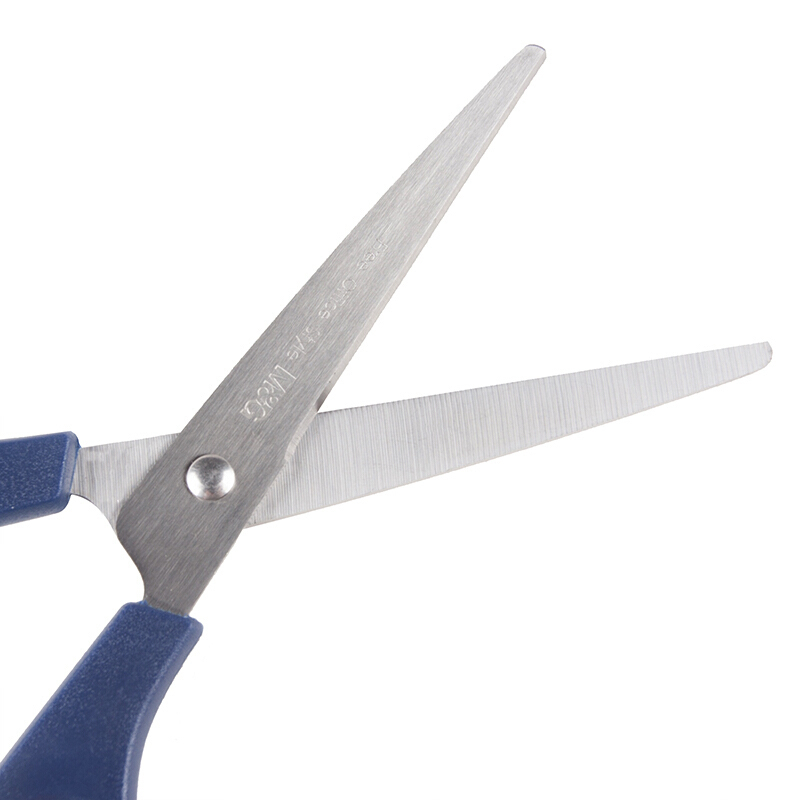scissors: (27, 38, 771, 793)
